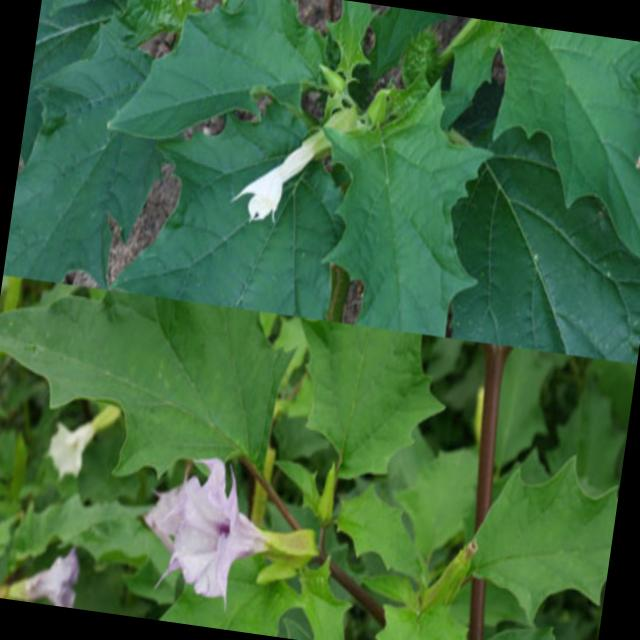Poisonous-Datura_Stramonium: (123, 0, 640, 365), (103, 434, 376, 640), (0, 294, 143, 612), (455, 436, 624, 640)
